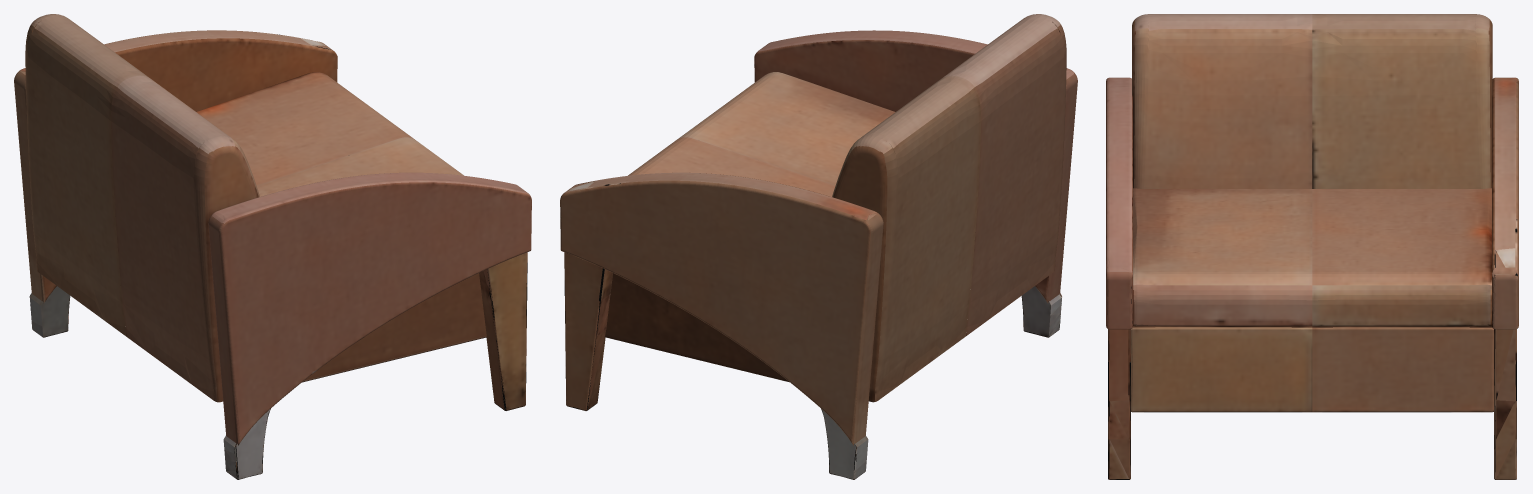
3 views of the same model, side by side, from view 1: azimuth 30°, elevation 25°; view 2: azimuth 150°, elevation 25°; view 3: azimuth 270°, elevation 25° (orthographic).
Visible parts, largest first — view 1: Node; view 2: Node; view 3: Node.
Boxes of the visible parts, <box> form: Node: <box>14,14,531,479</box>; Node: <box>560,14,1077,479</box>; Node: <box>1106,14,1518,479</box>.
Size of the model in its own units: 0.6193 by 0.6115 by 0.7.
Materials: 1 (1 with a texture image).
